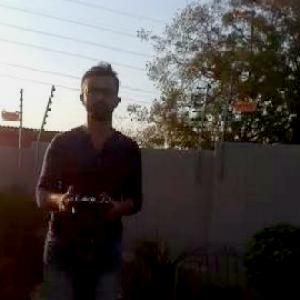follow: (27, 51, 150, 299)
